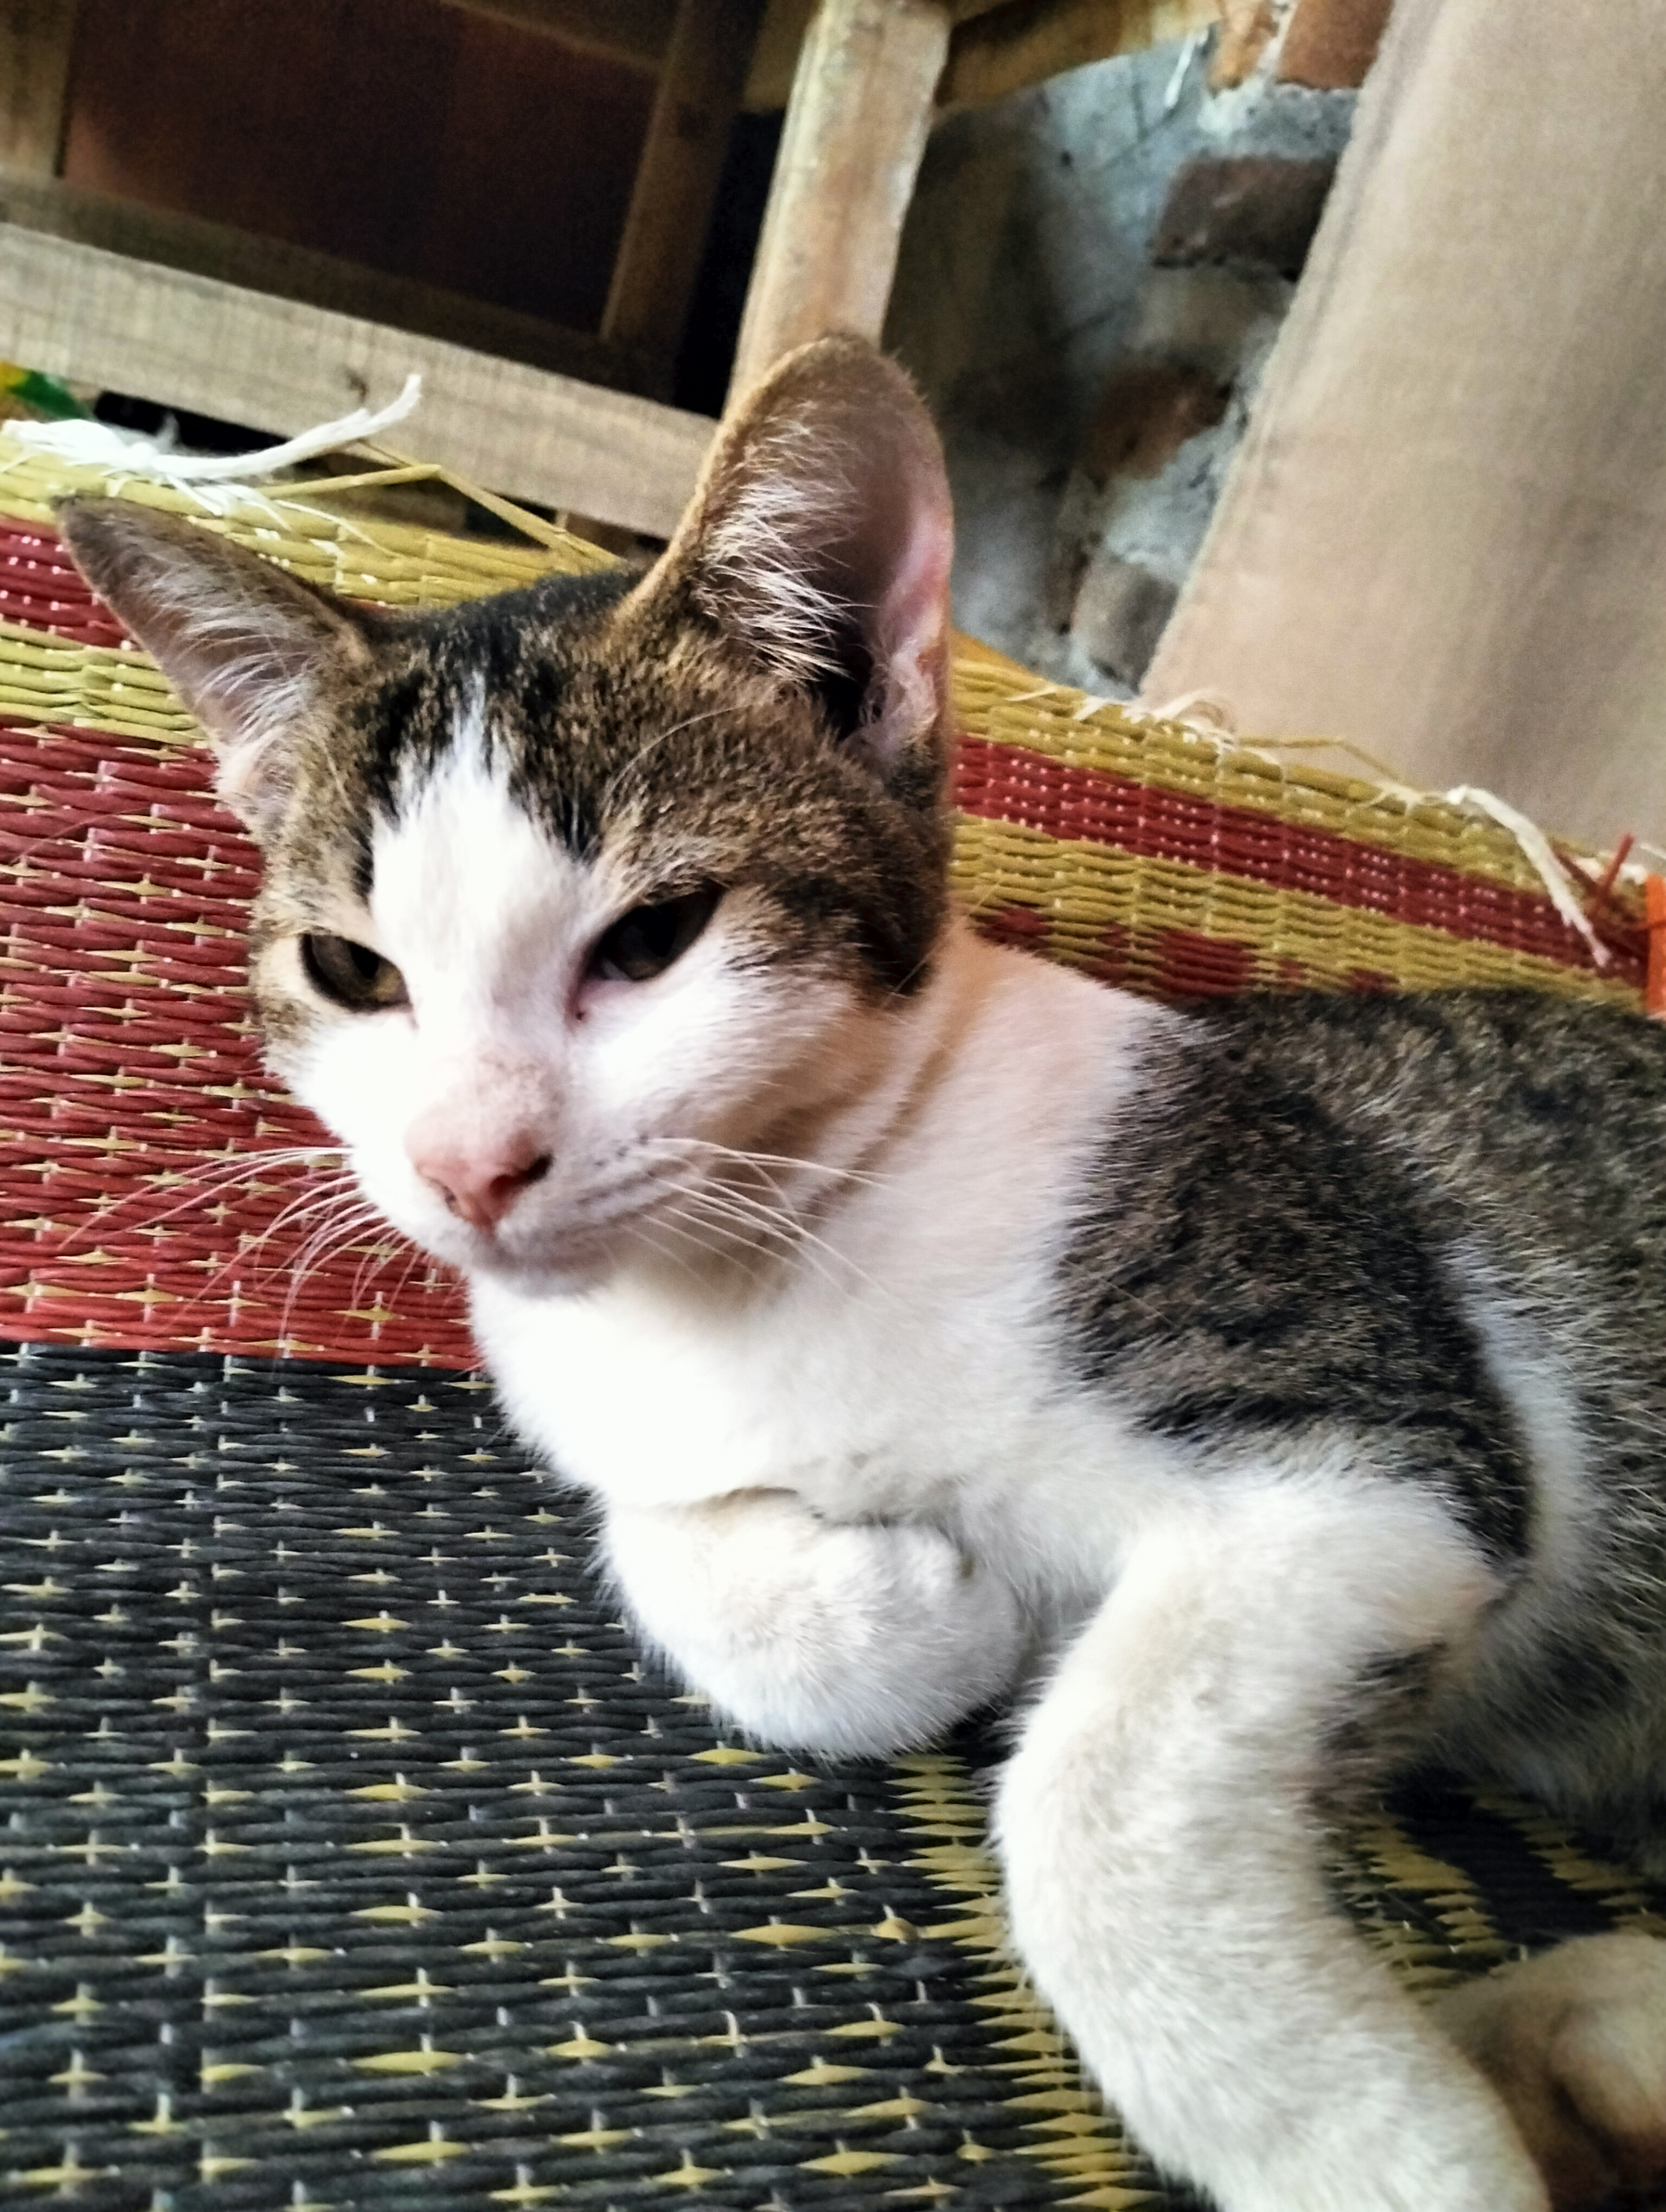miki: (65, 322, 1122, 1341)
